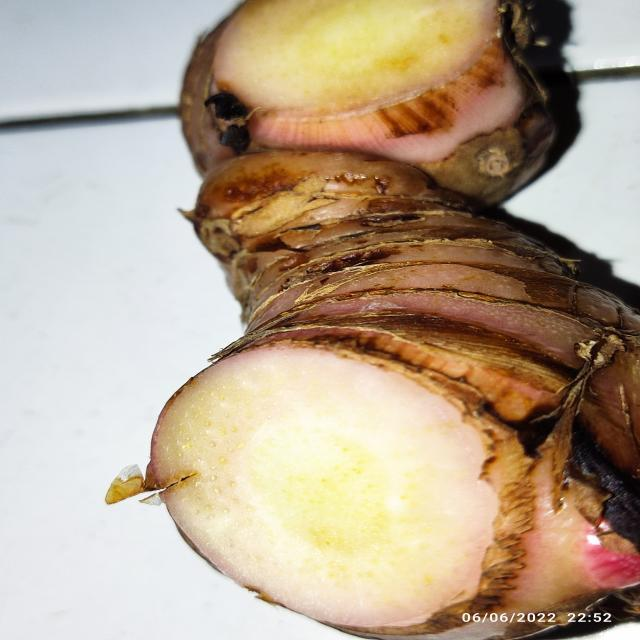ginger: (177, 0, 640, 599)
